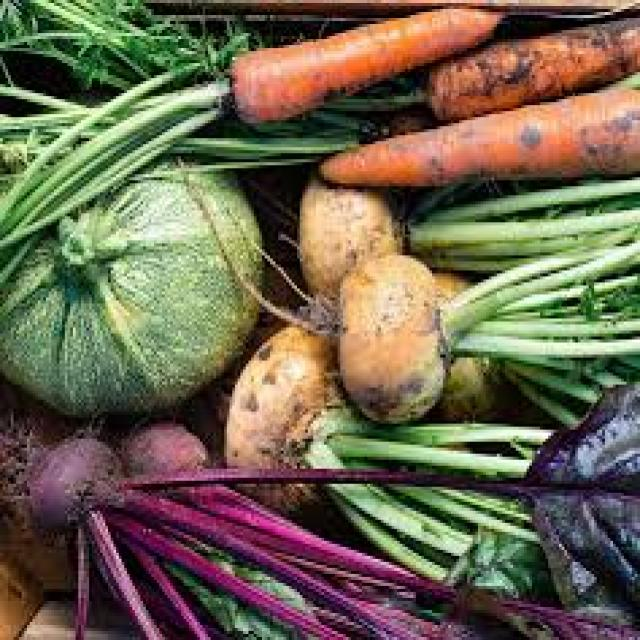food_waste: (233, 37, 640, 431), (23, 138, 292, 446)
